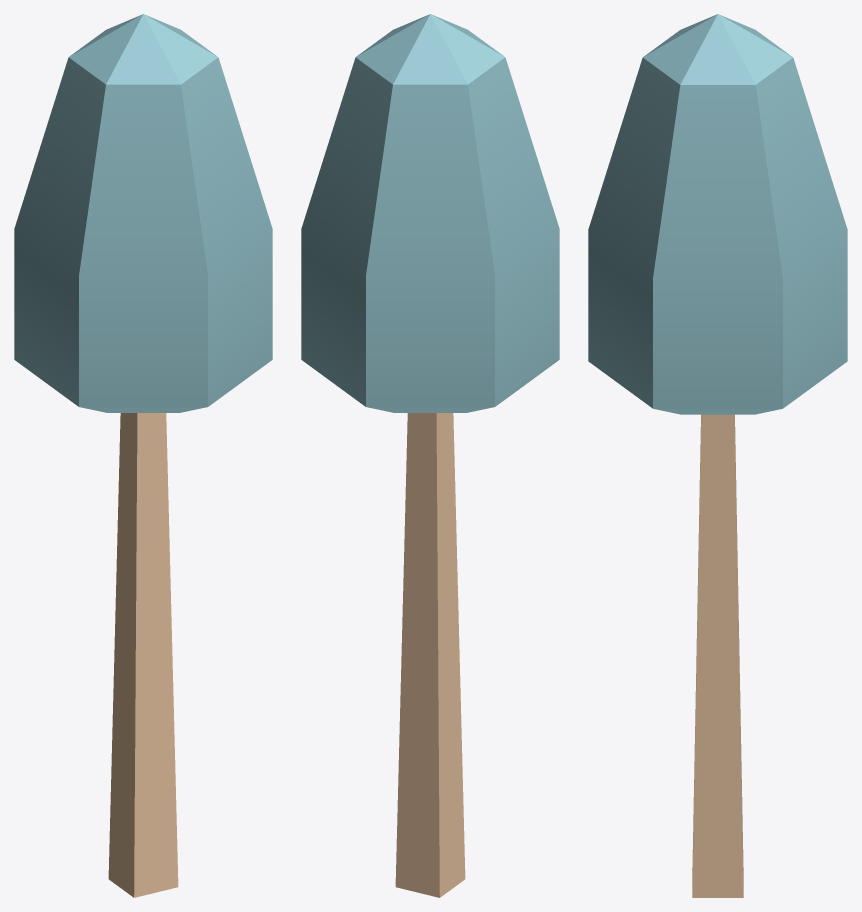
The model's file is tree_simple_dark.glb.
The picture shows the model from 3 angles, left to right: view 1: azimuth 30°, elevation 25°; view 2: azimuth 150°, elevation 25°; view 3: azimuth 270°, elevation 25°; orthographic projection.
Parts seen in each view (by area): view 1: tree_simple_dark; view 2: tree_simple_dark; view 3: tree_simple_dark.
Part boxes in pixels (x1=…): tree_simple_dark: x1=14, y1=14, x2=272, y2=897; tree_simple_dark: x1=301, y1=14, x2=559, y2=897; tree_simple_dark: x1=588, y1=14, x2=847, y2=897.
Bounding box in the file's own units: 0.3546 × 1.52 × 0.4095.
